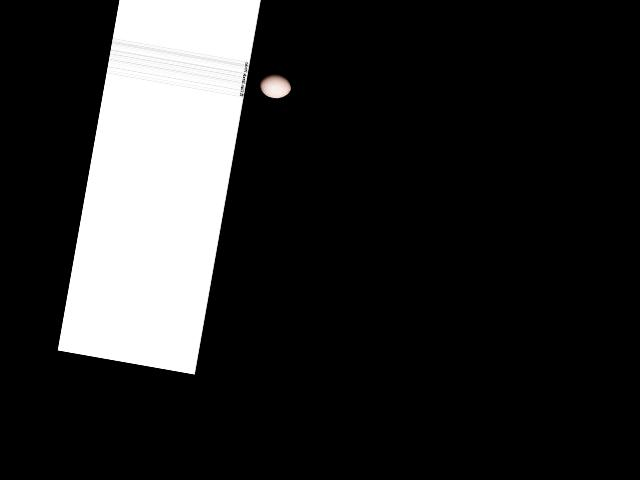egg: (257, 71, 292, 100)
